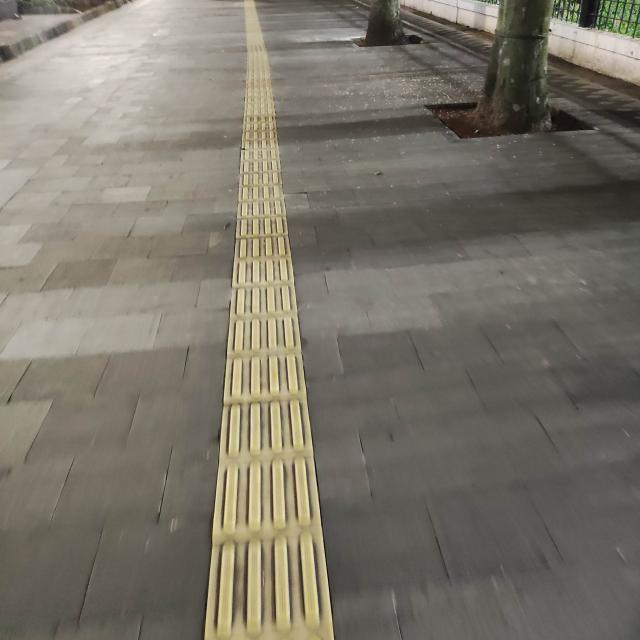lurus: (197, 43, 322, 640)
